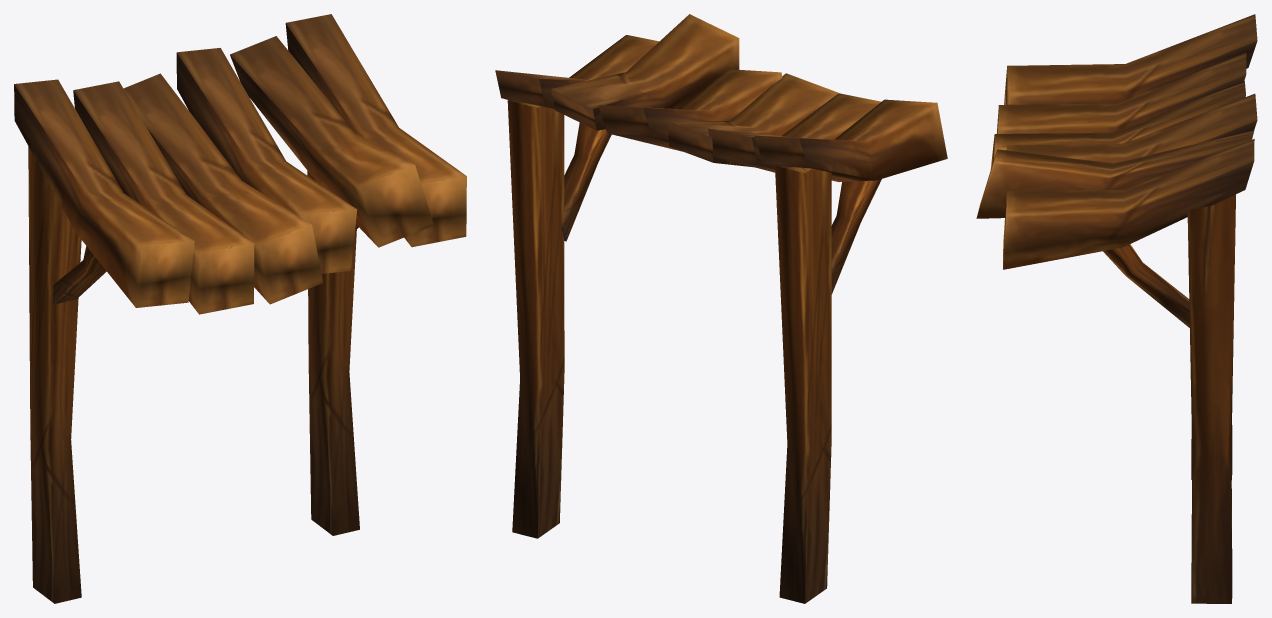
Rendered from roof_1.fbx.
The picture shows the model from 3 angles, left to right: view 1: azimuth 30°, elevation 25°; view 2: azimuth 150°, elevation 25°; view 3: azimuth 270°, elevation 25°; orthographic projection. The views are drawn at different scales.
Parts seen in each view (by area): view 1: roof_1; view 2: roof_1; view 3: roof_1.
Boxes of the visible parts, x1=… form: roof_1: x1=14, y1=14, x2=466, y2=603; roof_1: x1=495, y1=14, x2=947, y2=603; roof_1: x1=976, y1=14, x2=1257, y2=603.
Bounding box in the file's own units: 2.31 × 3.28 × 1.85.
